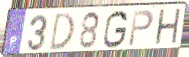3: (26, 13, 49, 52)
8: (77, 11, 101, 51)
D: (48, 11, 76, 53)
G: (102, 9, 130, 50)
H: (153, 7, 183, 48)
P: (127, 9, 155, 48)
